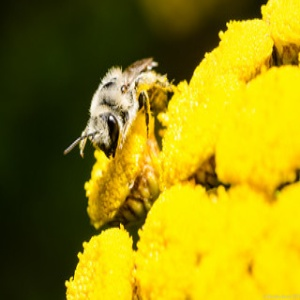bee: (61, 58, 173, 168)
